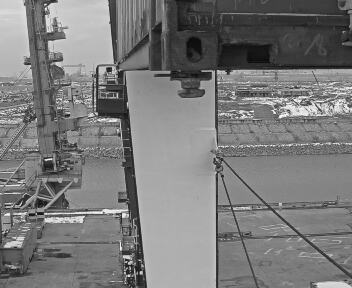twist_lock_1: (161, 65, 220, 108)
